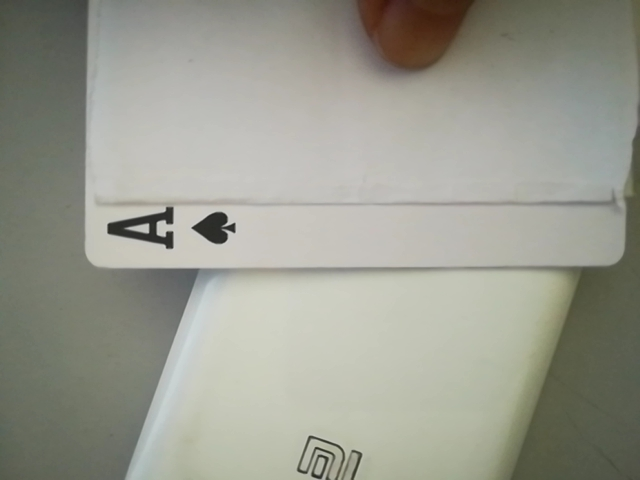ht a: (87, 198, 244, 265)
